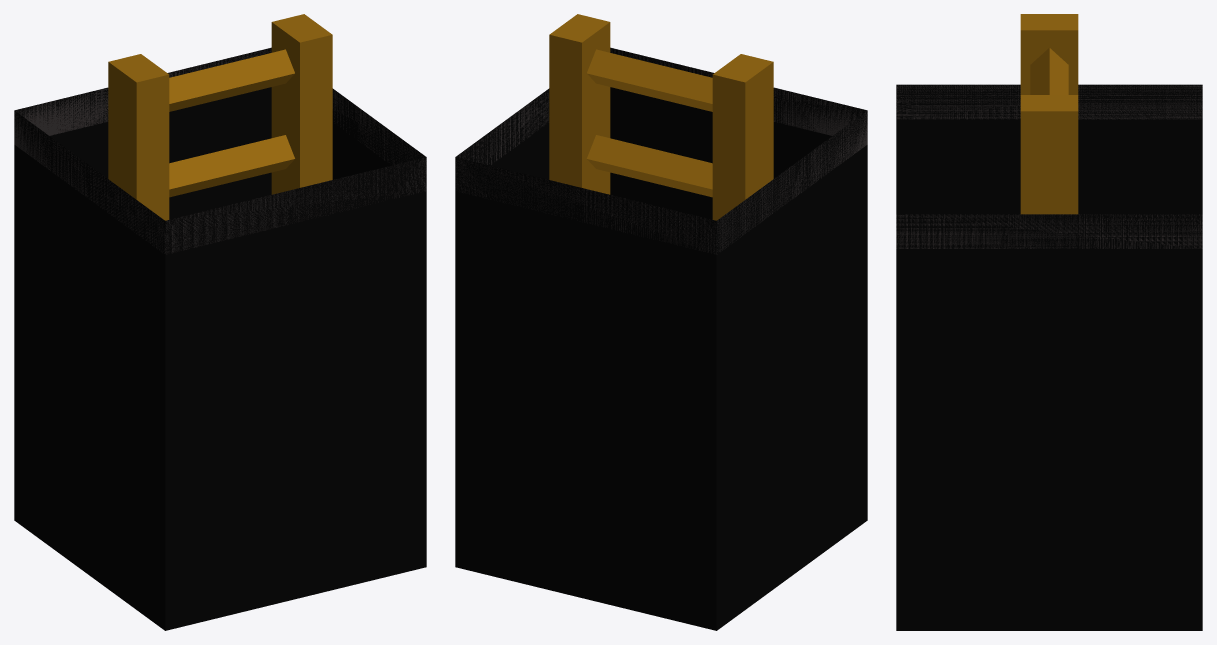
The model's file is obj_ladder_6_0.obj.
3 views of the same model, side by side, from view 1: azimuth 30°, elevation 25°; view 2: azimuth 150°, elevation 25°; view 3: azimuth 270°, elevation 25° (orthographic).
Size of the model in its own units: 1 by 1.81 by 1.
